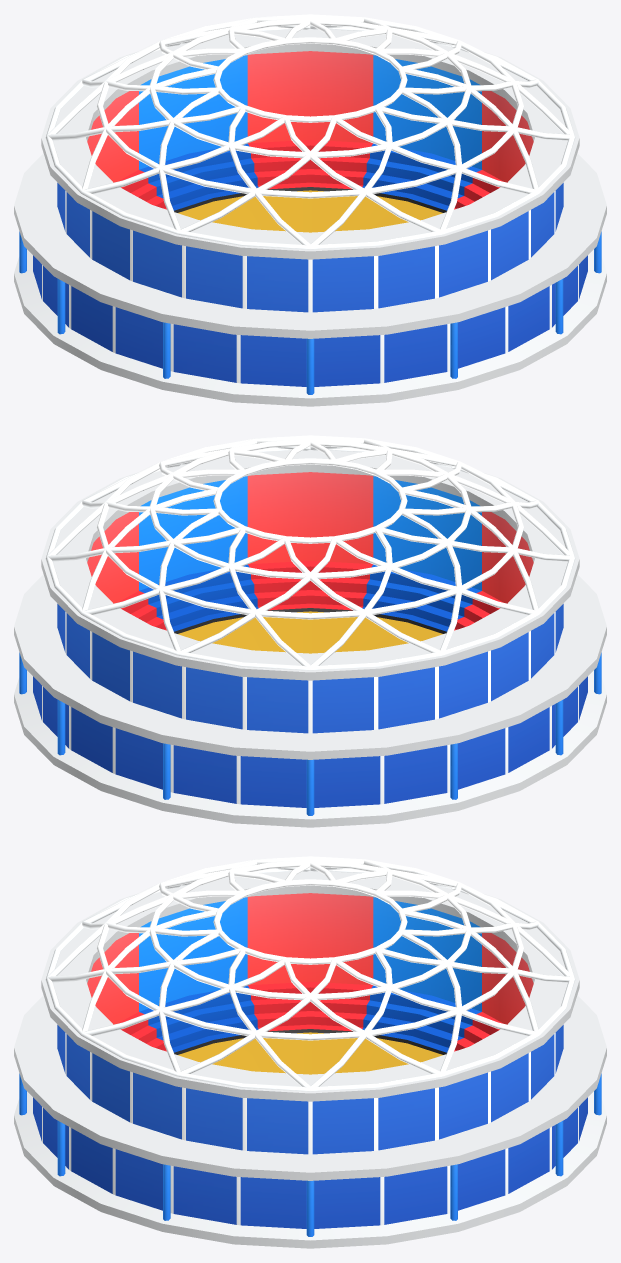
Rendered from Stadium_09.glb.
3 views of the same model, one above another, from view 1: azimuth 30°, elevation 25°; view 2: azimuth 150°, elevation 25°; view 3: azimuth 270°, elevation 25° (orthographic).
Visible parts, largest first — view 1: Stadium_09; view 2: Stadium_09; view 3: Stadium_09.
Part boxes in pixels (<box>): Stadium_09: <box>14,14,606,406</box>; Stadium_09: <box>14,435,606,827</box>; Stadium_09: <box>14,856,606,1248</box>.
Bounding box in the file's own units: 36.86 × 14 × 36.86.
Materials: 1 (1 with a texture image).
